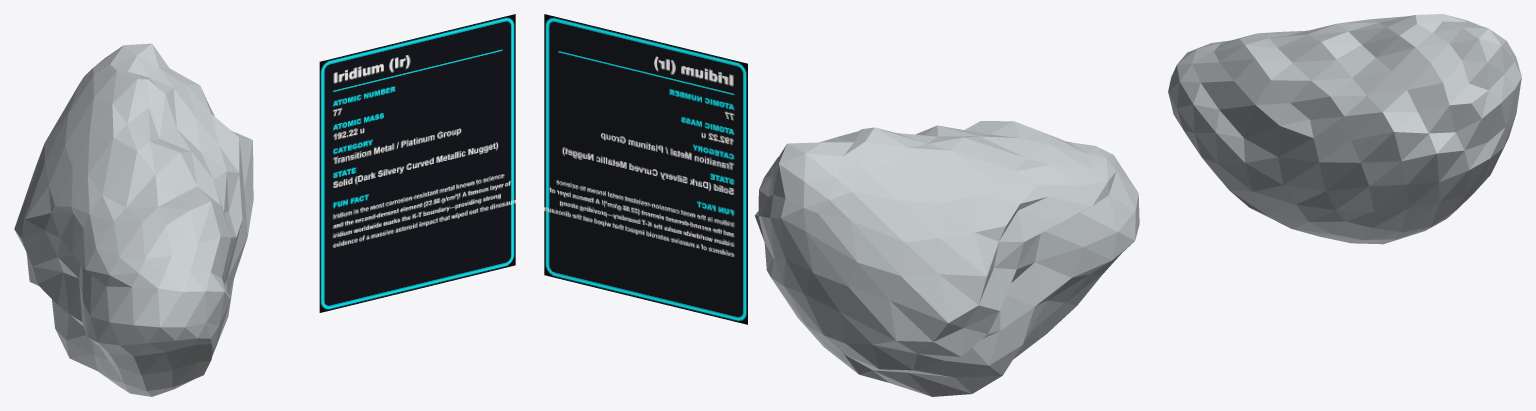
Rendered from iridium.glb.
3 views of the same model, side by side, from view 1: azimuth 30°, elevation 25°; view 2: azimuth 150°, elevation 25°; view 3: azimuth 270°, elevation 25° (orthographic). The views are drawn at different scales.
Parts seen in each view (by area): view 1: Mesh_0, Mesh_2; view 2: Mesh_0, Mesh_2; view 3: Mesh_0.
Part boxes in pixels (x1,y1,x2,y2): Mesh_0: [14, 43, 253, 396]; Mesh_2: [319, 14, 515, 312]; Mesh_0: [754, 121, 1139, 396]; Mesh_2: [544, 14, 747, 324]; Mesh_0: [1168, 14, 1521, 244].
Bounding box in the file's own units: 2.72 × 1.37 × 1.85.
2 materials, 1 textured.
